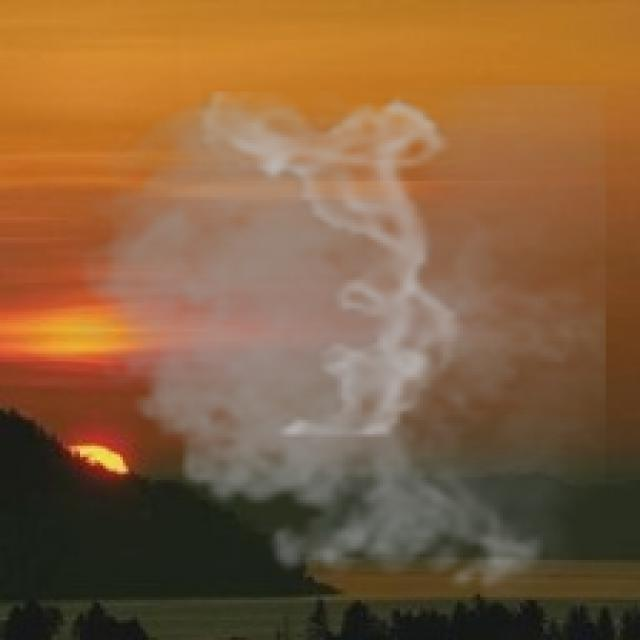Smoke: (60, 85, 606, 606)
